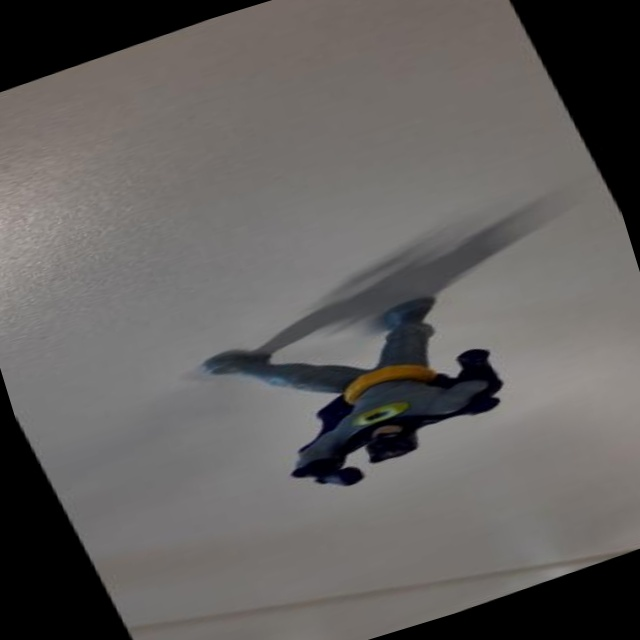Batman: (172, 244, 552, 524)
